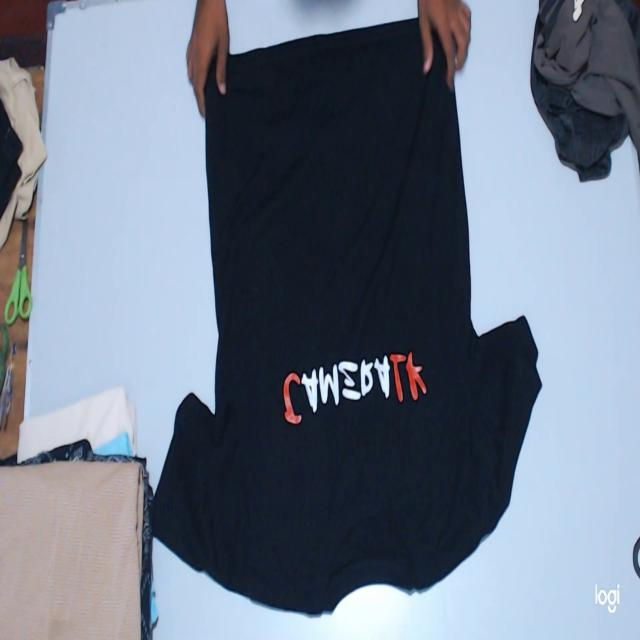new-garment: (154, 20, 540, 613)
